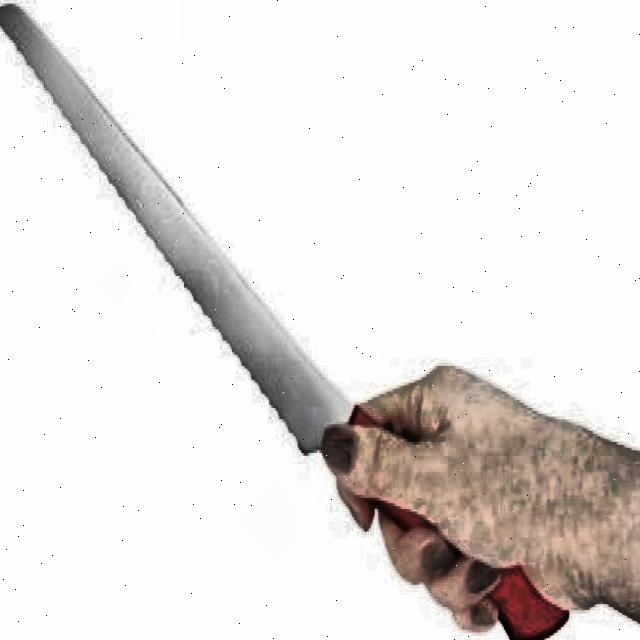knife: (0, 4, 570, 640)
